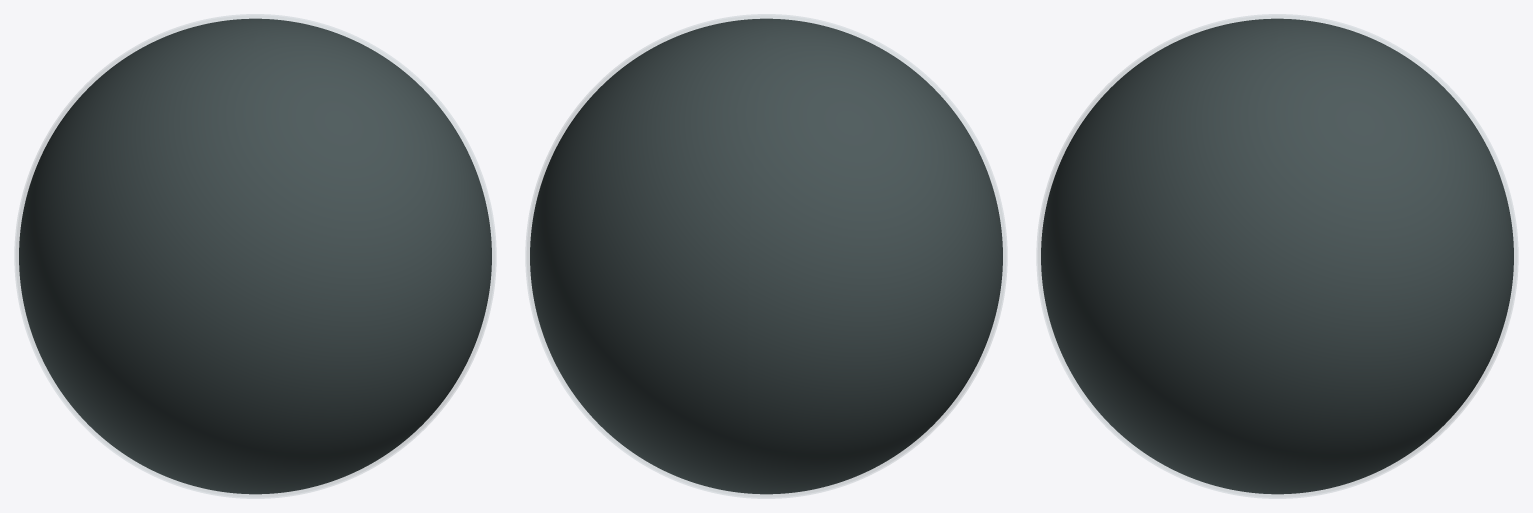
The model's file is earth.glb.
The picture shows the model from 3 angles, left to right: view 1: azimuth 30°, elevation 25°; view 2: azimuth 150°, elevation 25°; view 3: azimuth 270°, elevation 25°; orthographic projection.
Parts seen in each view (by area): view 1: atmosphere, earth; view 2: atmosphere, earth; view 3: atmosphere, earth.
Part boxes in pixels (x1,y1,x2,y2): atmosphere: (15,14,495,498); earth: (19,18,491,494); atmosphere: (526,14,1006,498); earth: (530,18,1002,494); atmosphere: (1037,14,1517,498); earth: (1041,18,1513,494).
Size of the model in its own units: 202 by 204 by 202.
